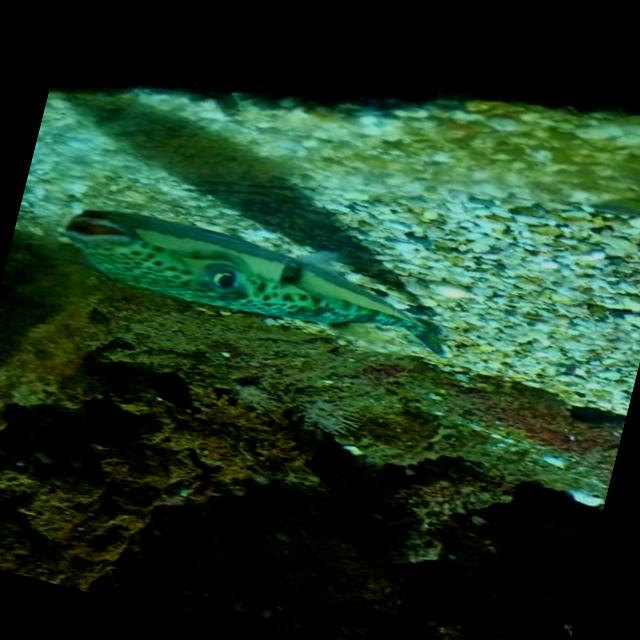Balon Baligi: (48, 183, 468, 366)
